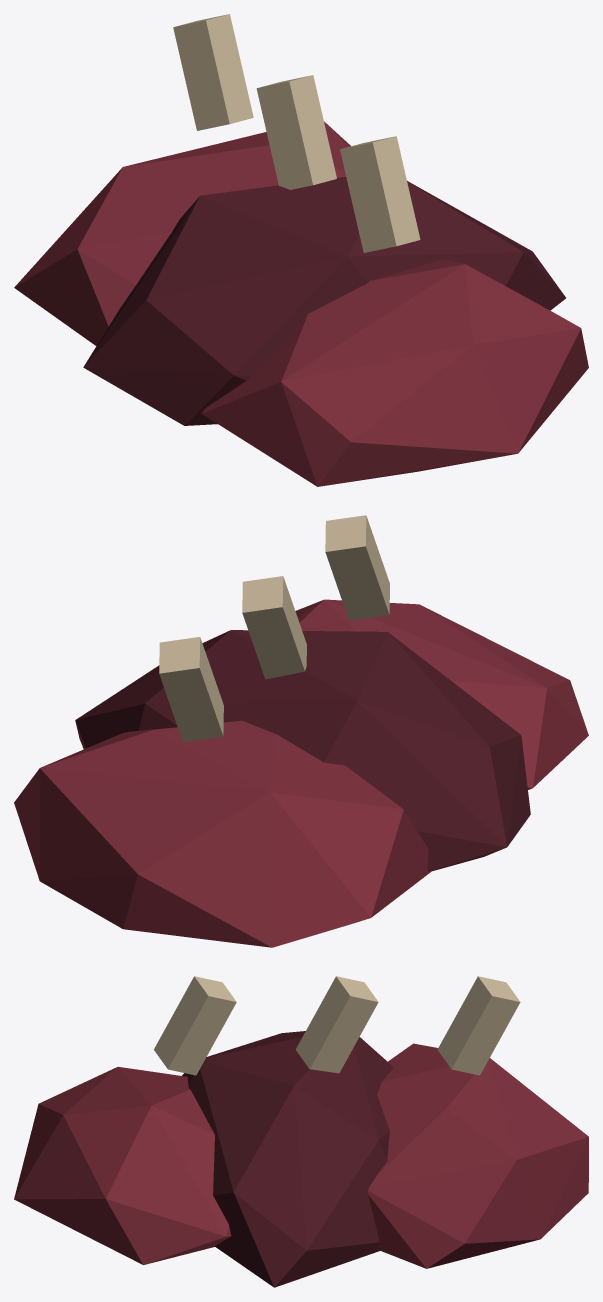
File: objet_carapace.glb
3 views of the same model, one above another, from view 1: azimuth 30°, elevation 25°; view 2: azimuth 150°, elevation 25°; view 3: azimuth 270°, elevation 25° (orthographic). The views are drawn at different scales.
Visible parts, largest first — view 1: carapace_carapace.002, carapace_carapace_sombre.002, carapace_corne.002; view 2: carapace_carapace.002, carapace_carapace_sombre.002, carapace_corne.002; view 3: carapace_carapace.002, carapace_carapace_sombre.002, carapace_corne.002.
Boxes of the visible parts, box(x1,y1,x2,y2) form: carapace_carapace.002: box(14, 121, 588, 486); carapace_carapace_sombre.002: box(83, 177, 565, 425); carapace_corne.002: box(173, 14, 420, 252); carapace_carapace.002: box(14, 599, 588, 947); carapace_carapace_sombre.002: box(75, 630, 530, 871); carapace_corne.002: box(159, 515, 389, 742); carapace_carapace.002: box(14, 1043, 588, 1268); carapace_carapace_sombre.002: box(182, 1031, 393, 1287); carapace_corne.002: box(154, 976, 520, 1075).
Size of the model in its own units: 0.2211 by 0.1153 by 0.2837.
